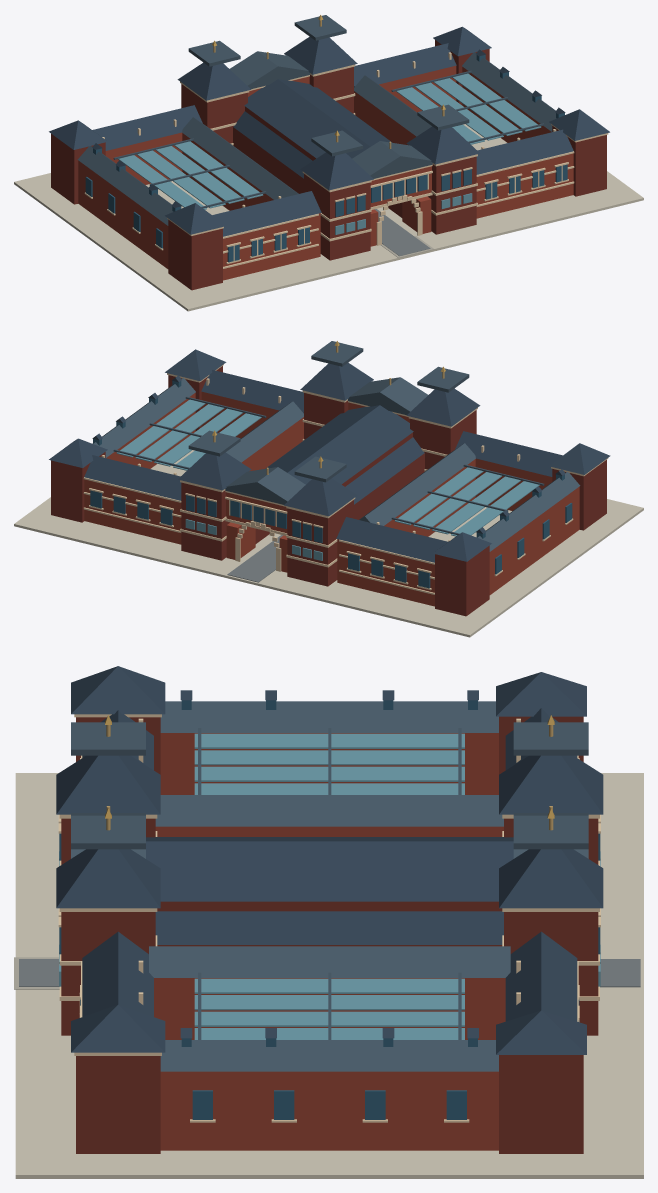
3 renders of one model, top to bottom at view 1: azimuth 30°, elevation 25°; view 2: azimuth 150°, elevation 25°; view 3: azimuth 270°, elevation 25°, orthographic. The views are drawn at different scales.
Parts seen in each view (by area): view 1: 001 Presentation plinth, 173 Main north-south roof ridge, 006 West outer long gallery, 004 West front exhibition wing, 088 East front exhibition wing, 014 West corner pavilion, 174 Museumplein West tower, 011 West courtyard gallery roof, 008 West south slate roof, 191 Museumplein East tower, 092 East south slate roof, 009 West north slate roof (+40 smaller); view 2: 001 Presentation plinth, 173 Main north-south roof ridge, 006 West outer long gallery, 005 West rear exhibition wing, 089 East rear exhibition wing, 017 West rear corner pavilion, 239 City-side West tower, 011 West courtyard gallery roof, 009 West north slate roof, 256 City-side East tower, 093 East north slate roof, 092 East south slate roof (+40 smaller); view 3: 001 Presentation plinth, 090 East outer long gallery, 173 Main north-south roof ridge, 097 East central spine roof, 095 East courtyard gallery roof, 011 West courtyard gallery roof, 094 East perimeter gallery roof, 010 West perimeter gallery roof, 101 East rear corner pavilion, 098 East corner pavilion, 006 West outer long gallery, 091 East inner courtyard gallery (+29 smaller).
Boxes of the visible parts, x1,y1,x2,y2 form: 001 Presentation plinth: [14, 124, 643, 311]; 173 Main north-south roof ridge: [244, 79, 392, 158]; 006 West outer long gallery: [78, 160, 168, 268]; 004 West front exhibition wing: [223, 213, 320, 280]; 088 East front exhibition wing: [476, 153, 573, 218]; 014 West corner pavilion: [168, 219, 222, 290]; 174 Museumplein West tower: [304, 174, 370, 260]; 011 West courtyard gallery roof: [182, 117, 298, 199]; 008 West south slate roof: [212, 191, 321, 236]; 191 Museumplein East tower: [428, 156, 476, 234]; 092 East south slate roof: [476, 129, 573, 174]; 009 West north slate roof: [92, 105, 202, 150]; 001 Presentation plinth: [14, 450, 643, 637]; 173 Main north-south roof ridge: [265, 405, 413, 484]; 006 West outer long gallery: [489, 486, 579, 594]; 005 West rear exhibition wing: [337, 539, 434, 606]; 089 East rear exhibition wing: [84, 479, 181, 544]; 017 West rear corner pavilion: [435, 545, 489, 616]; 239 City-side West tower: [287, 500, 353, 586]; 011 West courtyard gallery roof: [359, 443, 475, 525]; 009 West north slate roof: [336, 517, 447, 562]; 256 City-side East tower: [181, 482, 229, 560]; 093 East north slate roof: [84, 455, 181, 500]; 092 East south slate roof: [201, 370, 303, 413]; 001 Presentation plinth: [15, 773, 643, 1178]; 090 East outer long gallery: [160, 1071, 498, 1150]; 173 Main north-south roof ridge: [146, 837, 513, 901]; 097 East central spine roof: [155, 911, 503, 944]; 095 East courtyard gallery roof: [149, 946, 510, 977]; 011 West courtyard gallery roof: [155, 795, 503, 826]; 094 East perimeter gallery roof: [160, 1040, 498, 1071]; 010 West perimeter gallery roof: [160, 701, 498, 732]; 101 East rear corner pavilion: [499, 1055, 583, 1153]; 098 East corner pavilion: [76, 1056, 160, 1153]; 006 West outer long gallery: [160, 733, 498, 794]; 091 East inner courtyard gallery: [154, 978, 505, 1039].
Size of the model in its own units: 0.292 by 0.0734 by 0.1935.
